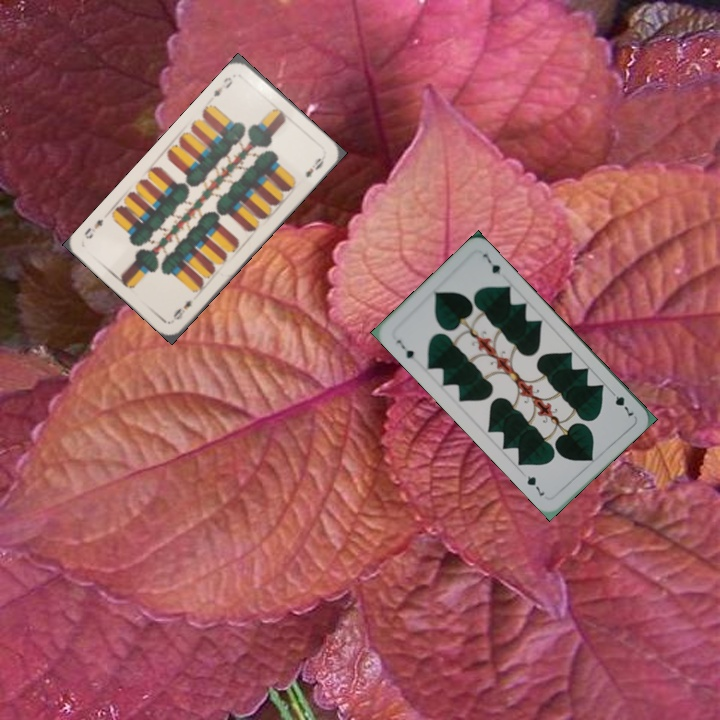E9: (209, 73, 235, 100), (169, 296, 194, 322)
G7: (606, 386, 636, 419), (392, 335, 419, 365)
